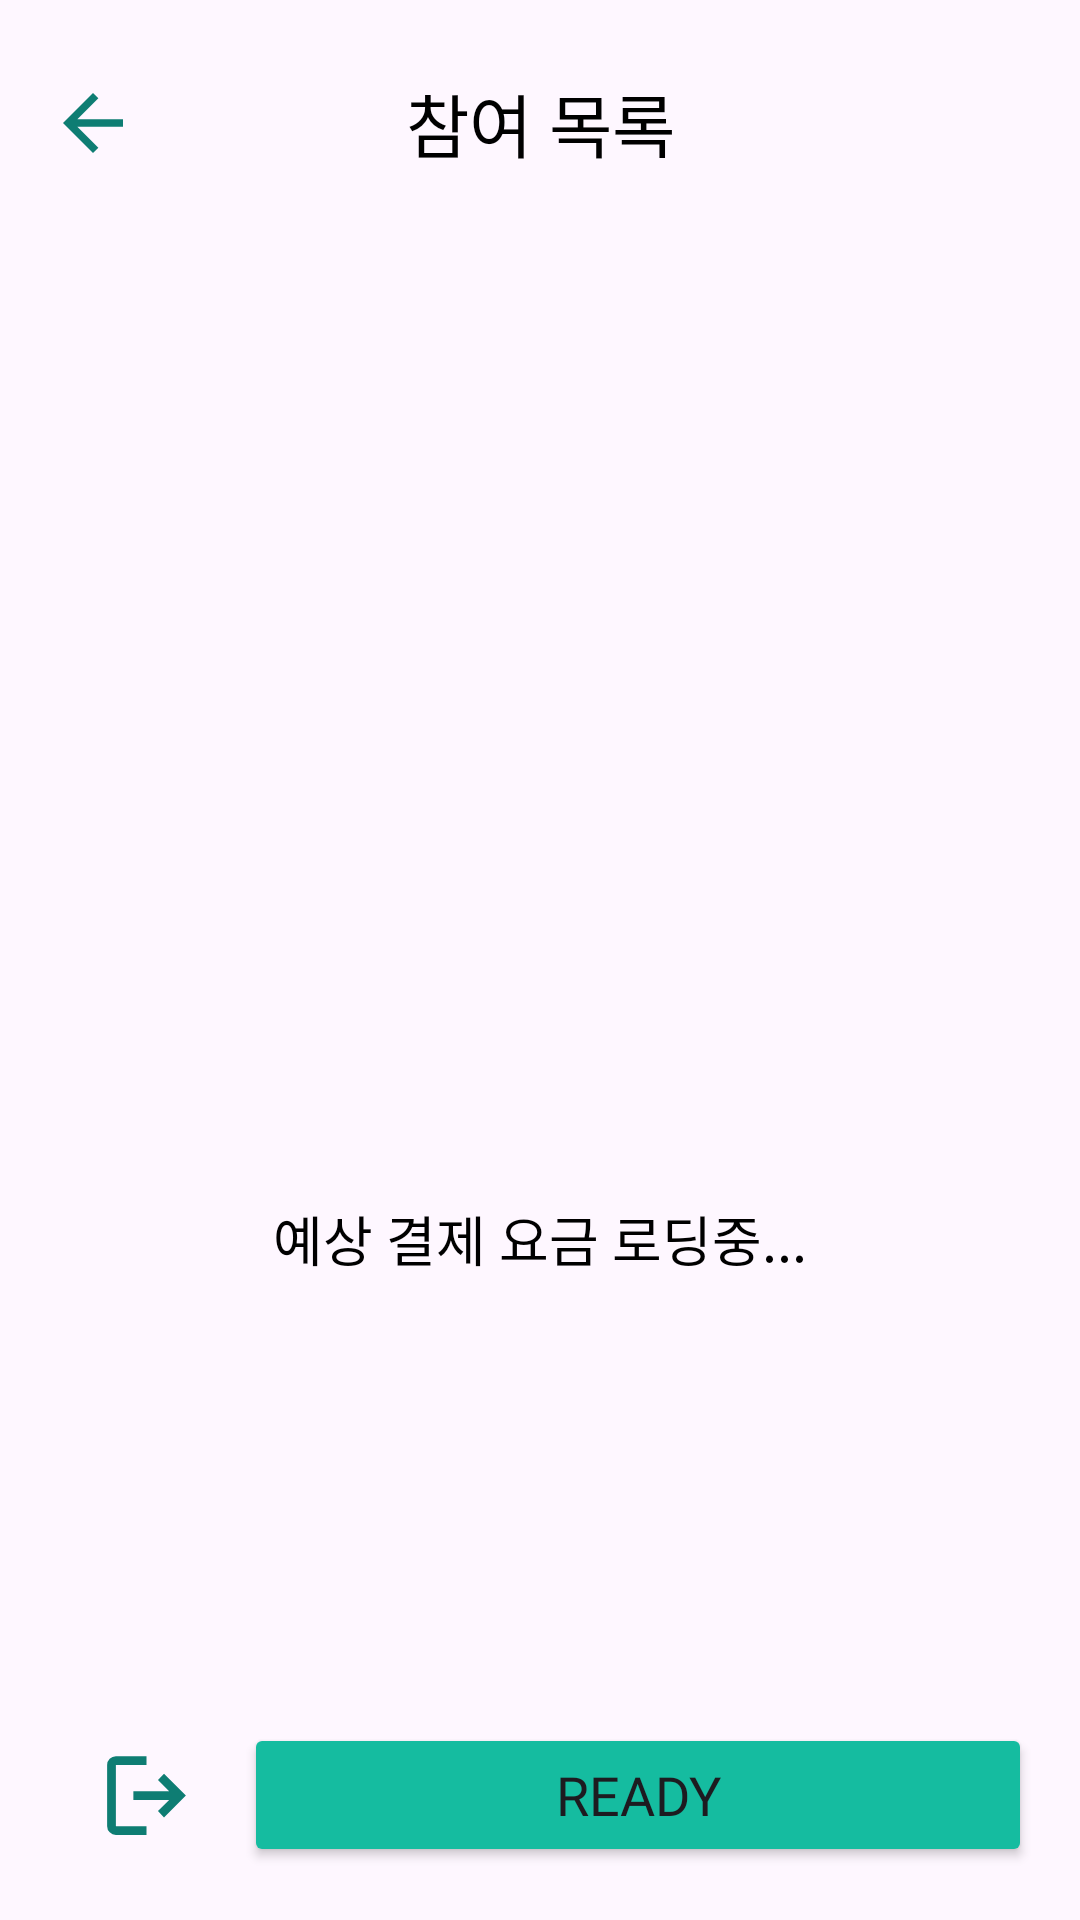

Icons on this 1080×1920 Android screen, each with the point to tap as [x,y]:
Back to Chat: [93,123]
Exit: [146,1795]
